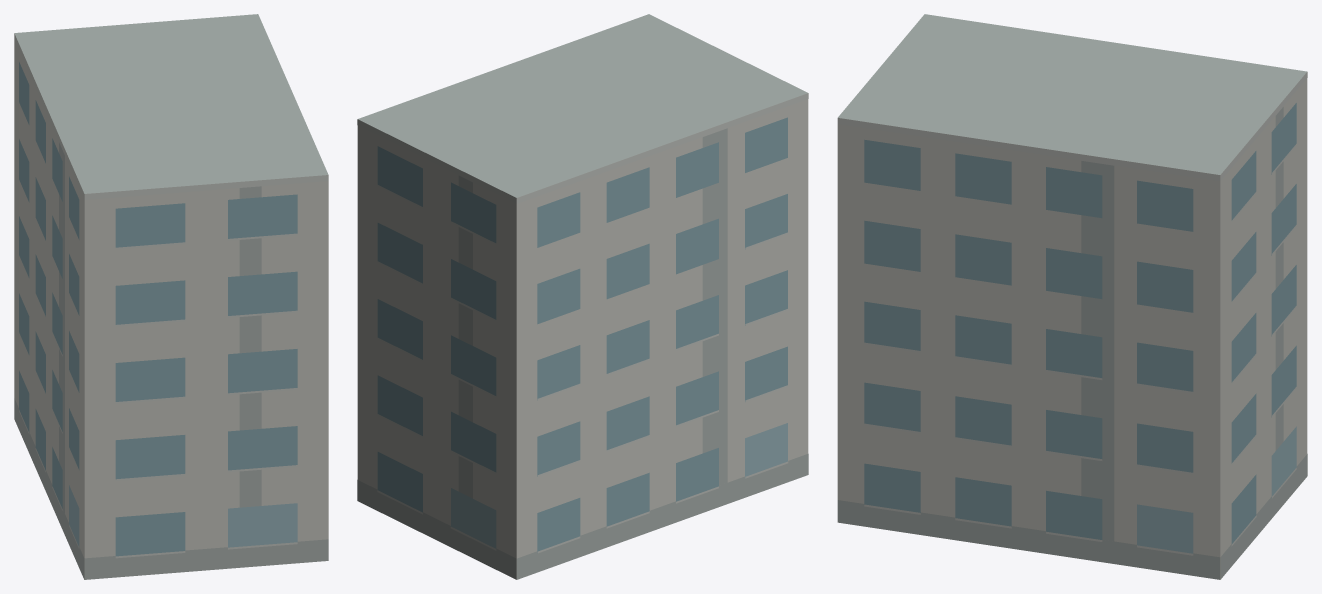
The model's file is residential-a230c1bc-3518-4451-9732-a387908771ea.glb.
3 renders of one model, left to right at view 1: azimuth 30°, elevation 25°; view 2: azimuth 150°, elevation 25°; view 3: azimuth 270°, elevation 25°, orthographic. The views are drawn at different scales.
Parts seen in each view (by area): view 1: residential-a230c1bc-3518-4451-9732-a387908771ea.tmp; view 2: residential-a230c1bc-3518-4451-9732-a387908771ea.tmp; view 3: residential-a230c1bc-3518-4451-9732-a387908771ea.tmp.
Part boxes in pixels (left/top/right/bottom): residential-a230c1bc-3518-4451-9732-a387908771ea.tmp: left=14, top=14, right=328, bottom=579; residential-a230c1bc-3518-4451-9732-a387908771ea.tmp: left=357, top=14, right=808, bottom=579; residential-a230c1bc-3518-4451-9732-a387908771ea.tmp: left=837, top=14, right=1307, bottom=579.
Size of the model in its own units: 13.03 by 15.25 by 16.05.
